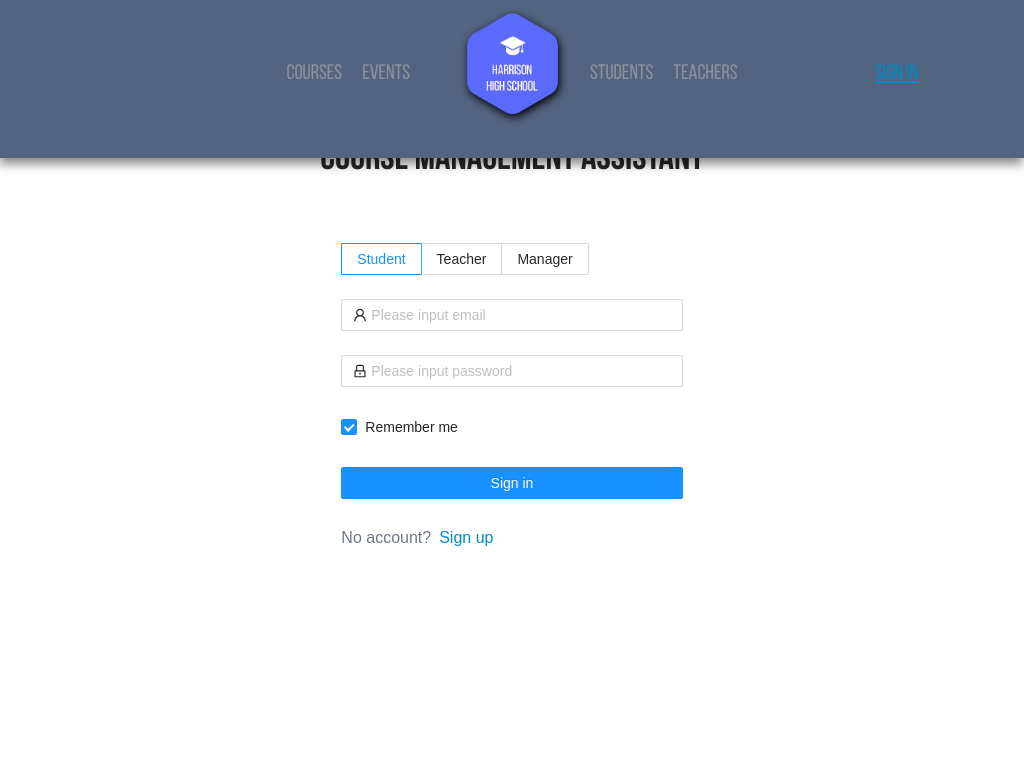
Test: Login Page works as intended › ID04: Account input validation without password
This screenshot has width=1024, height=768.
Type "student@admin.com" into the field with id "login_email" at (521,315), box top-left (371, 304), bottom-right (670, 326)
Then press Enter
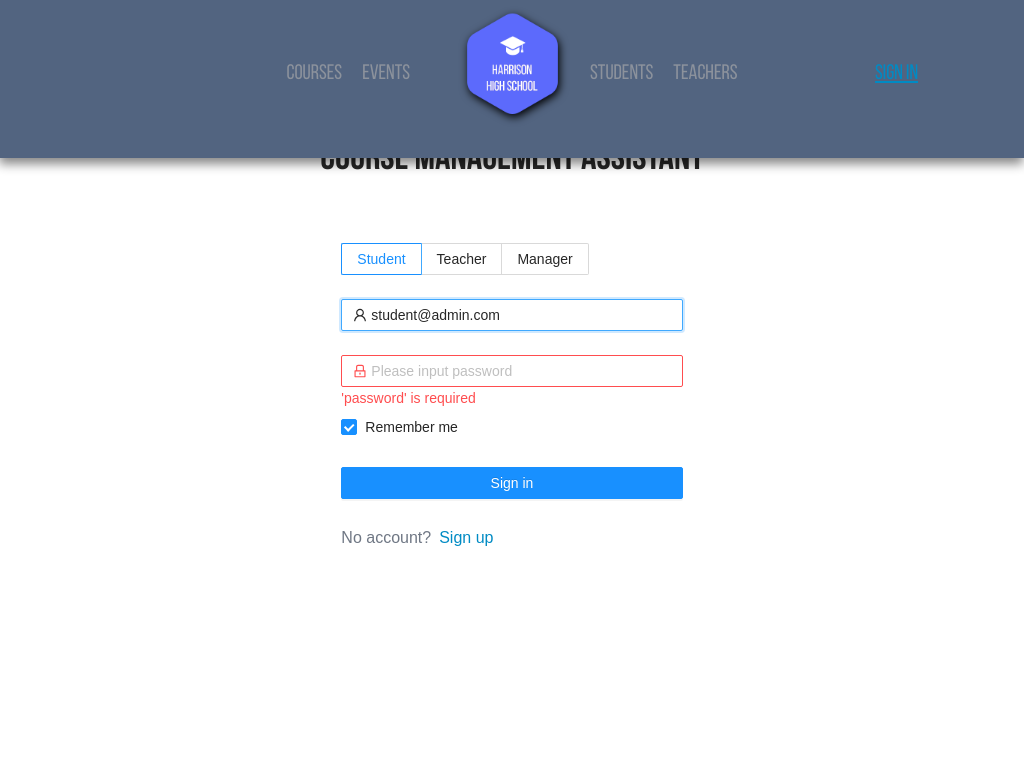
Check: the text "'password' is required" is shown once, box top-left (341, 390), bottom-right (476, 406)
Click the button "Sign in" at (512,483), box top-left (341, 467), bottom-right (682, 499)
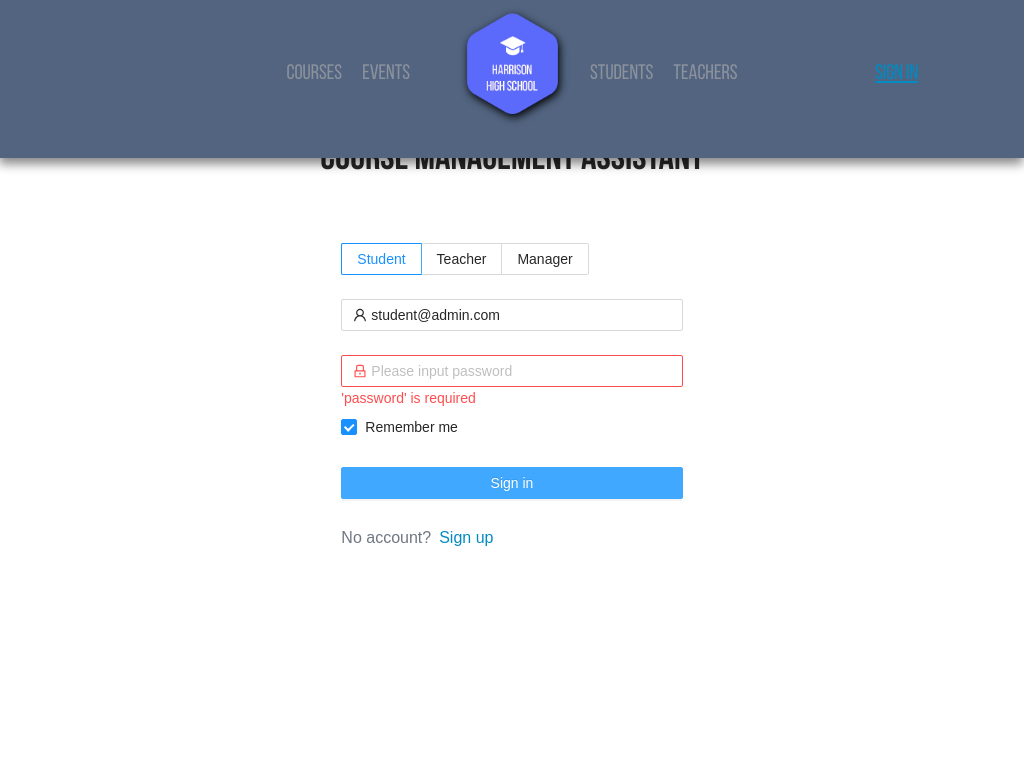
Check: the text "'password' is required" is shown once, box top-left (341, 390), bottom-right (476, 406)
Replace the text in the field with id "login_email" with "AAA@" at (521,315), box top-left (371, 304), bottom-right (670, 326)
Then press Enter
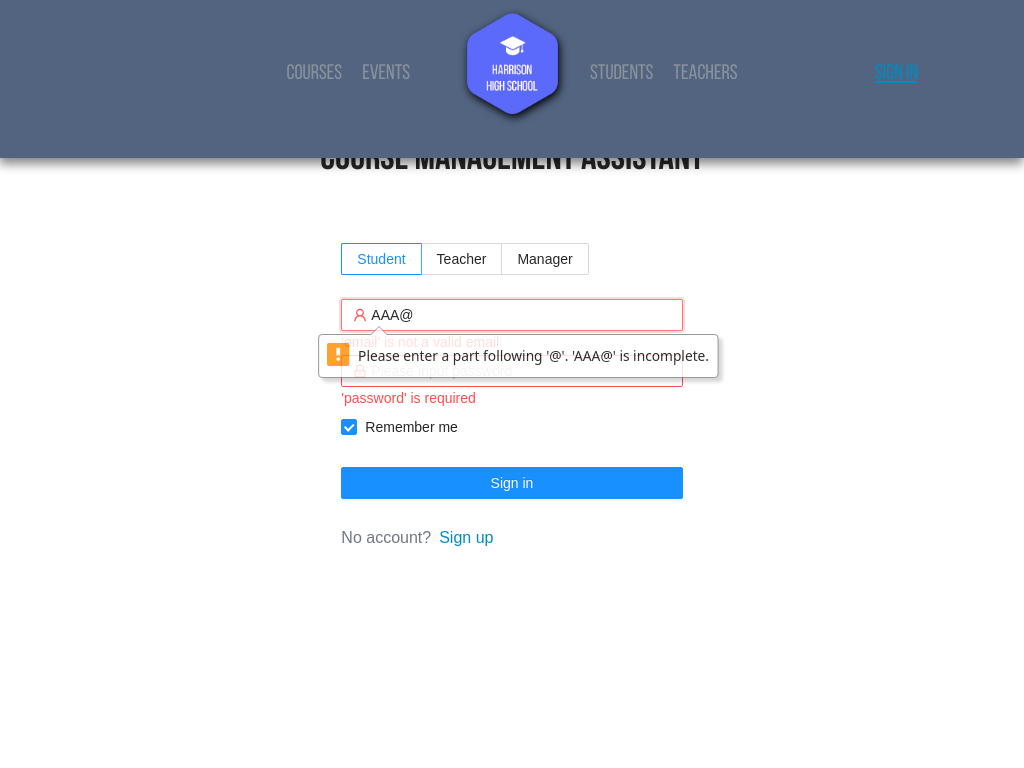
Check: the field with id "login_email" holds "AAA@", box top-left (371, 304), bottom-right (670, 326)
Check: the text "'email' is not a valid email" is shown once, box top-left (341, 334), bottom-right (499, 350)
